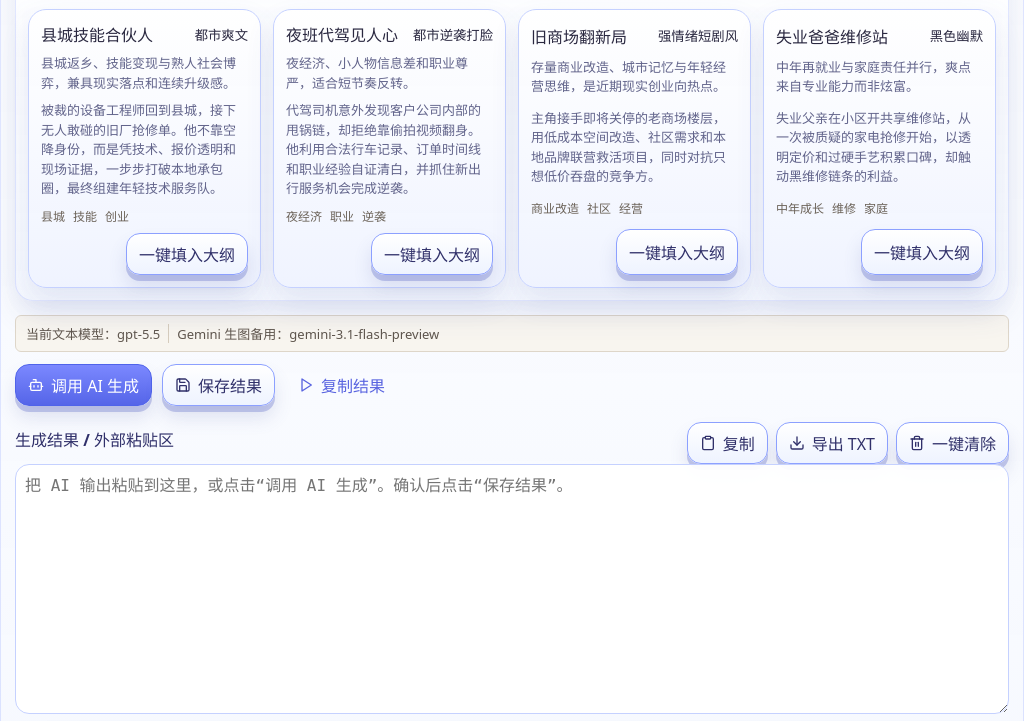
Test case: Workspace progress › shows a generation progress bar while AI is running
(page scrolled)
Click the button "调用 AI 生成".
click(84, 384)  # box [15,364,152,406]
Wait 6150 ms
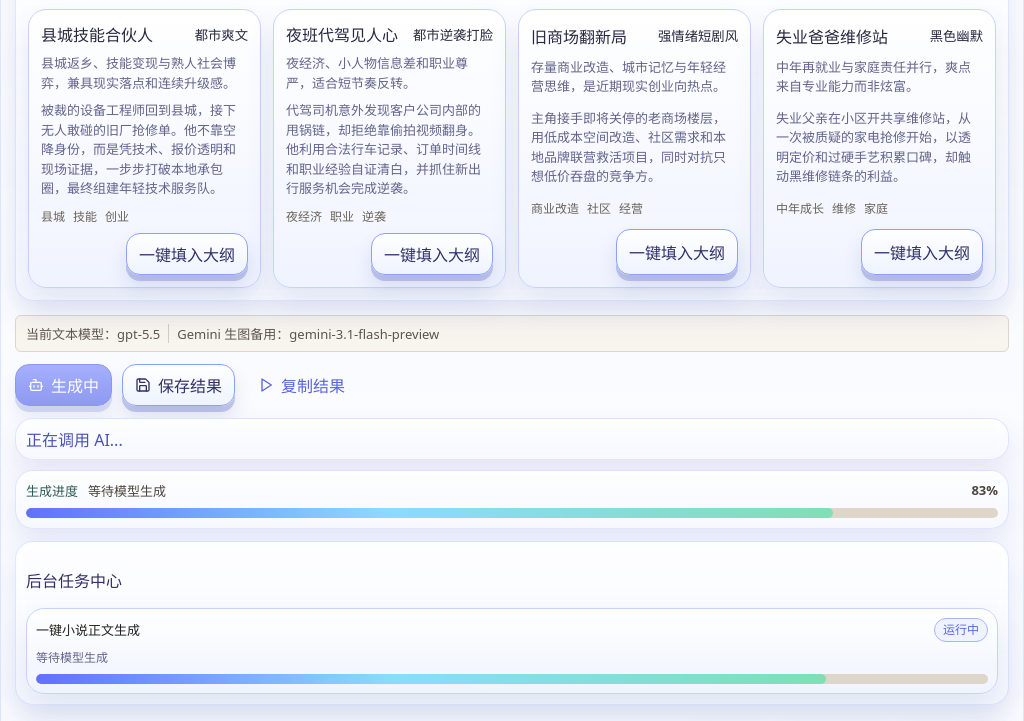
Check: the text "生成进度" is shown, box [26,480,78,500]
Check: the text "等待模型生成" next to "生成进度" is shown, box [88,482,166,500]
